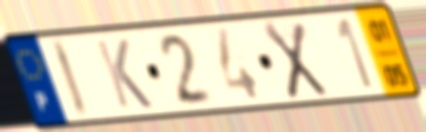1: (335, 15, 378, 92)
2: (157, 30, 217, 109)
4: (215, 25, 264, 104)
I: (47, 38, 93, 120)
K: (92, 37, 156, 110)
X: (258, 20, 331, 102)
